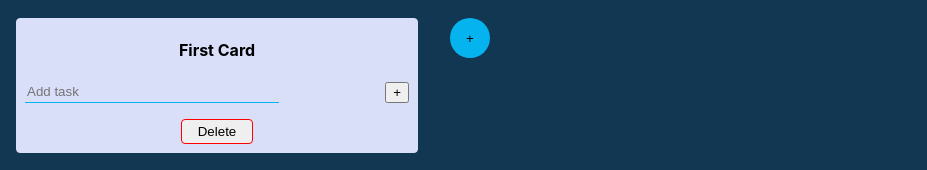
Integration test - actions › should add new card successfully
What coordinates should you click on to do the following:
click the button with test id "add-card"
I would click on:
 (470, 38)
Its box is [450, 18, 490, 58].
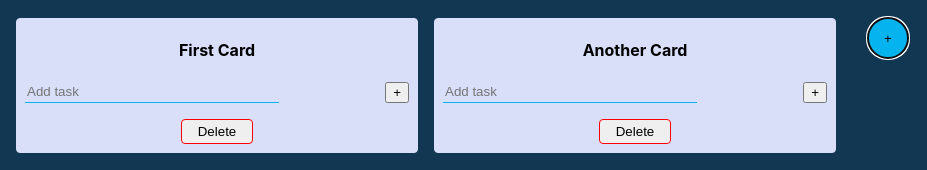
Expected: the heading "Another Card" is shown, [583, 40, 687, 60]
